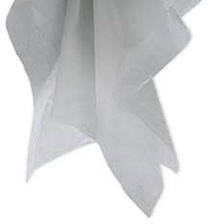tissue: (0, 0, 209, 224)
